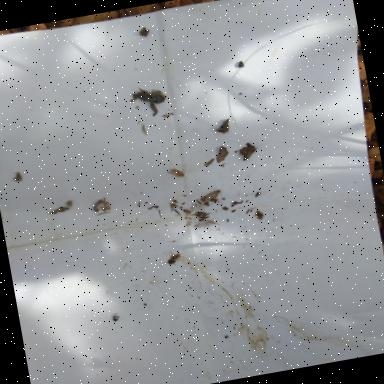pbw: (198, 184, 224, 203)
